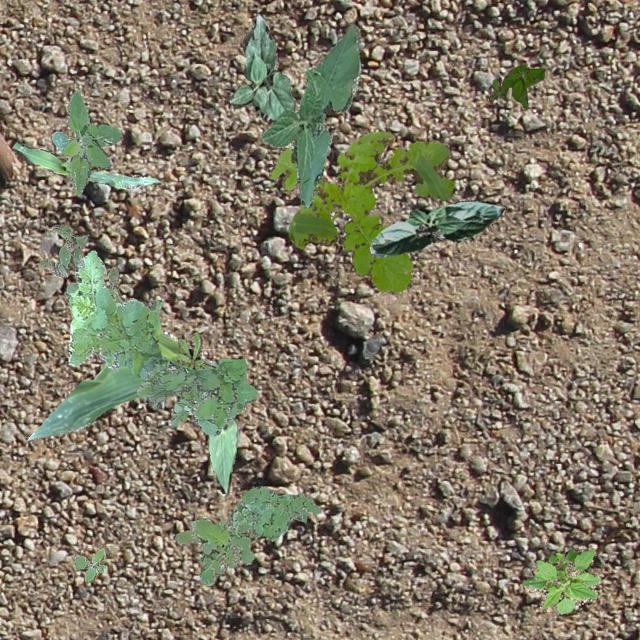crop: (26, 330, 218, 440), (260, 23, 360, 206), (368, 198, 504, 256), (228, 13, 294, 122), (10, 142, 158, 188), (208, 417, 238, 492)
weed: (68, 250, 256, 434), (267, 130, 453, 292), (174, 502, 276, 584), (50, 89, 121, 194), (39, 224, 123, 302), (522, 546, 598, 614), (238, 484, 320, 538), (488, 64, 542, 106), (176, 332, 216, 368), (70, 548, 104, 582)
